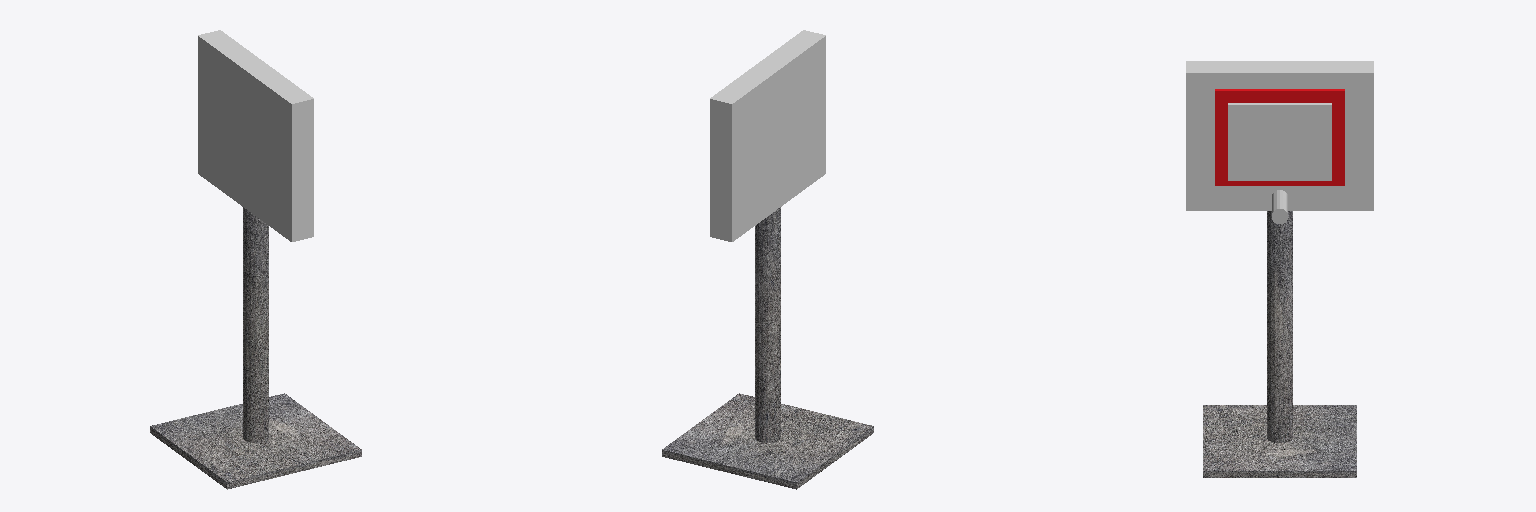
3 views of the same model, side by side, from view 1: azimuth 30°, elevation 25°; view 2: azimuth 150°, elevation 25°; view 3: azimuth 270°, elevation 25° (orthographic).
Visible parts, largest first — view 1: Box001, Box002, Cylinder001; view 2: Box001, Box002, Cylinder001; view 3: Box001, Box002, Box004, Cylinder001, Box003.
Part boxes in pixels (x1,y1,x2,y2): Box001: (198,30,313,241); Box002: (150,393,361,489); Cylinder001: (243,207,268,442); Box001: (710,30,825,241); Box002: (662,393,873,489); Cylinder001: (755,207,780,442); Box001: (1186,61,1373,210); Box002: (1203,405,1356,477); Box004: (1228,103,1331,180); Cylinder001: (1267,211,1292,442); Box003: (1215,89,1344,185).
Size of the model in its own units: 20.2 by 54.12 by 24.4.
Materials: 6 (4 with a texture image).